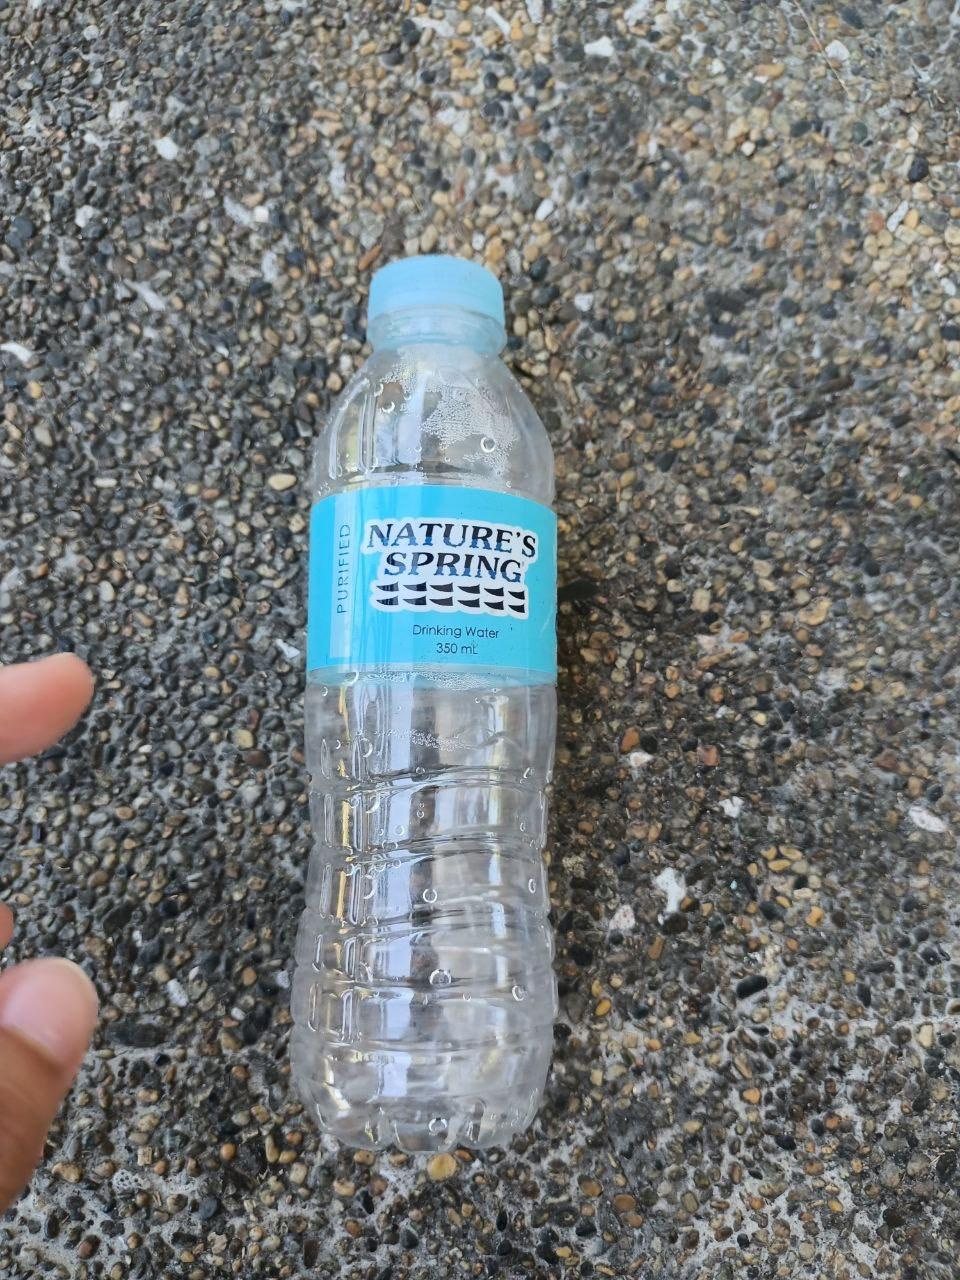plastic: (249, 183, 628, 1230)
